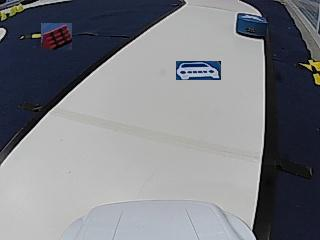prop: (236, 14, 267, 38)
